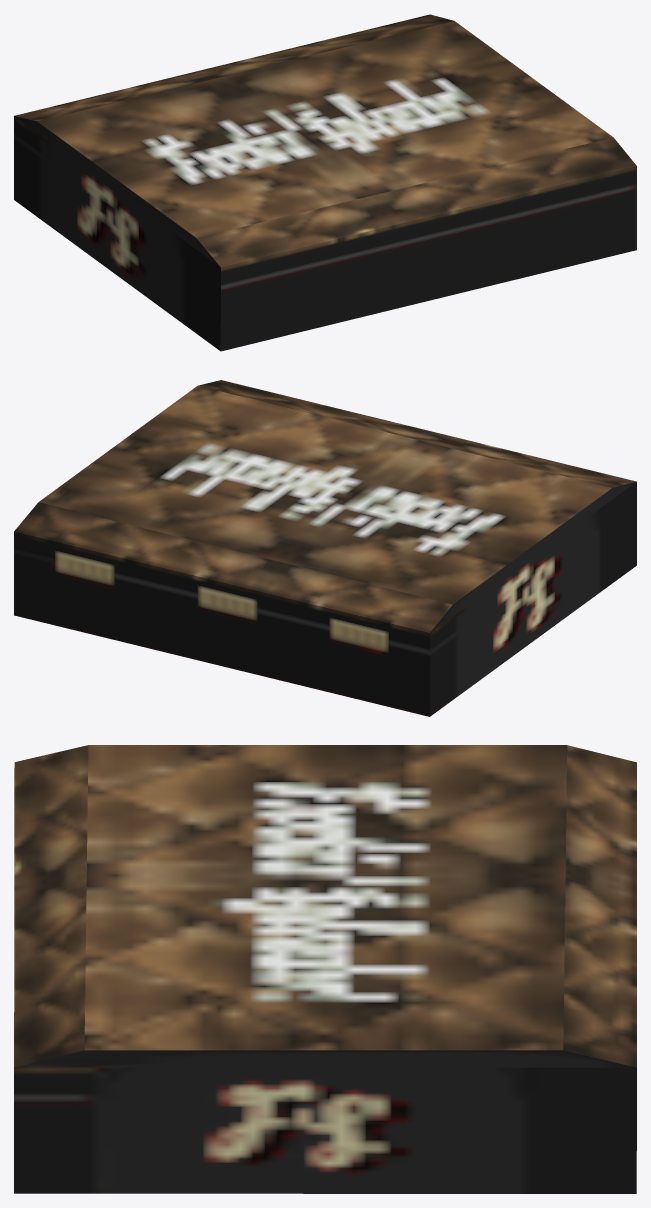
File: FrockinShirts_ShirtBox.fbx
3 renders of one model, top to bottom at view 1: azimuth 30°, elevation 25°; view 2: azimuth 150°, elevation 25°; view 3: azimuth 270°, elevation 25°, orthographic. The views are drawn at different scales.
Visible parts, largest first — view 1: ToolBox_Ground; view 2: ToolBox_Ground; view 3: ToolBox_Ground.
Part boxes in pixels (left/top/right/bottom): ToolBox_Ground: left=14, top=14, right=636, bottom=351; ToolBox_Ground: left=14, top=380, right=636, bottom=716; ToolBox_Ground: left=14, top=745, right=636, bottom=1193.
Bounding box in the file's own units: 0.2634 × 0.0577 × 0.227.
